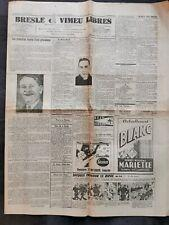paper: (5, 2, 169, 216)
